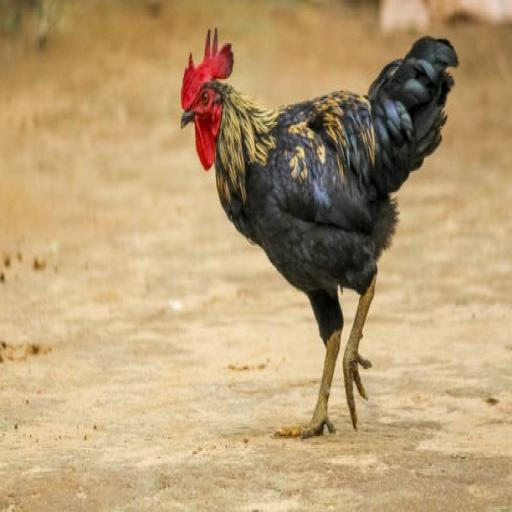healthy: (170, 25, 248, 180)
